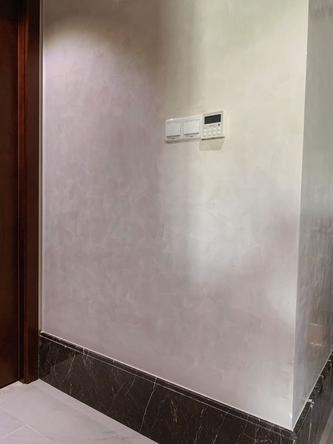switch: (181, 119, 202, 135), (165, 121, 182, 138)
